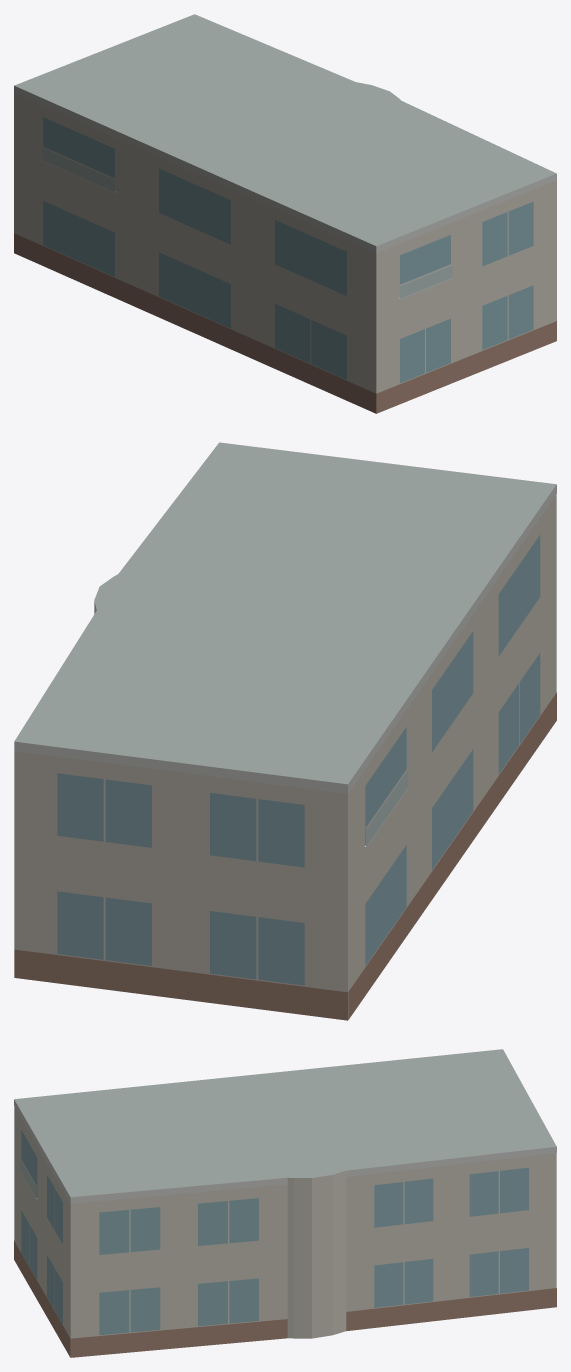
File: survey-upis-32607722.glb
3 renders of one model, top to bottom at view 1: azimuth 30°, elevation 25°; view 2: azimuth 150°, elevation 25°; view 3: azimuth 270°, elevation 25°, orthographic. The views are drawn at different scales.
Visible parts, largest first — view 1: survey-upis-32607722.tmp; view 2: survey-upis-32607722.tmp; view 3: survey-upis-32607722.tmp.
Part boxes in pixels (x1,y1,x2,y2): survey-upis-32607722.tmp: (14,14,556,413); survey-upis-32607722.tmp: (14,442,556,1020); survey-upis-32607722.tmp: (14,1049,556,1357).
Size of the model in its own units: 12.09 by 6.1 by 18.71.
